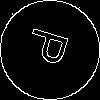P: (25, 25, 79, 70)
